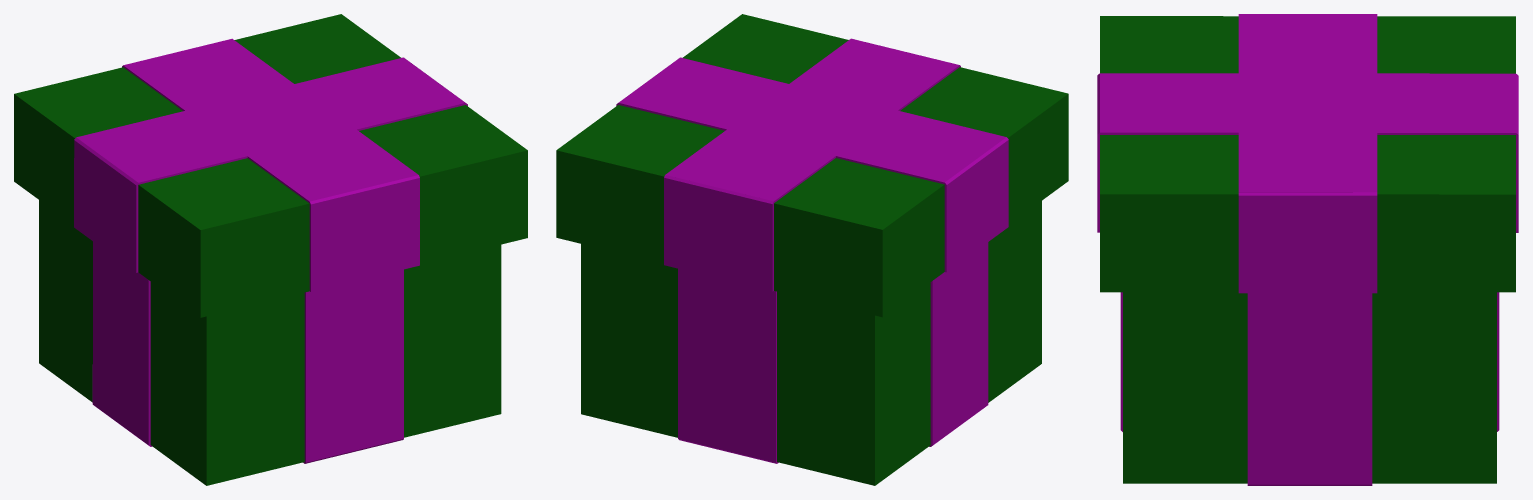
Rendered from finalBoxModel.fbx.
3 renders of one model, left to right at view 1: azimuth 30°, elevation 25°; view 2: azimuth 150°, elevation 25°; view 3: azimuth 270°, elevation 25°, orthographic. The views are drawn at different scales.
Parts seen in each view (by area): view 1: pCube2, pCube1; view 2: pCube2, pCube1; view 3: pCube2, pCube1.
Part boxes in pixels (x1,y1,x2,y2): pCube2: (14, 14, 527, 317); pCube1: (39, 200, 501, 485); pCube2: (556, 14, 1068, 317); pCube1: (581, 201, 1041, 485); pCube2: (1097, 14, 1518, 293); pCube1: (1120, 292, 1499, 485).
Size of the model in its own units: 3.39 by 2.65 by 3.34.
